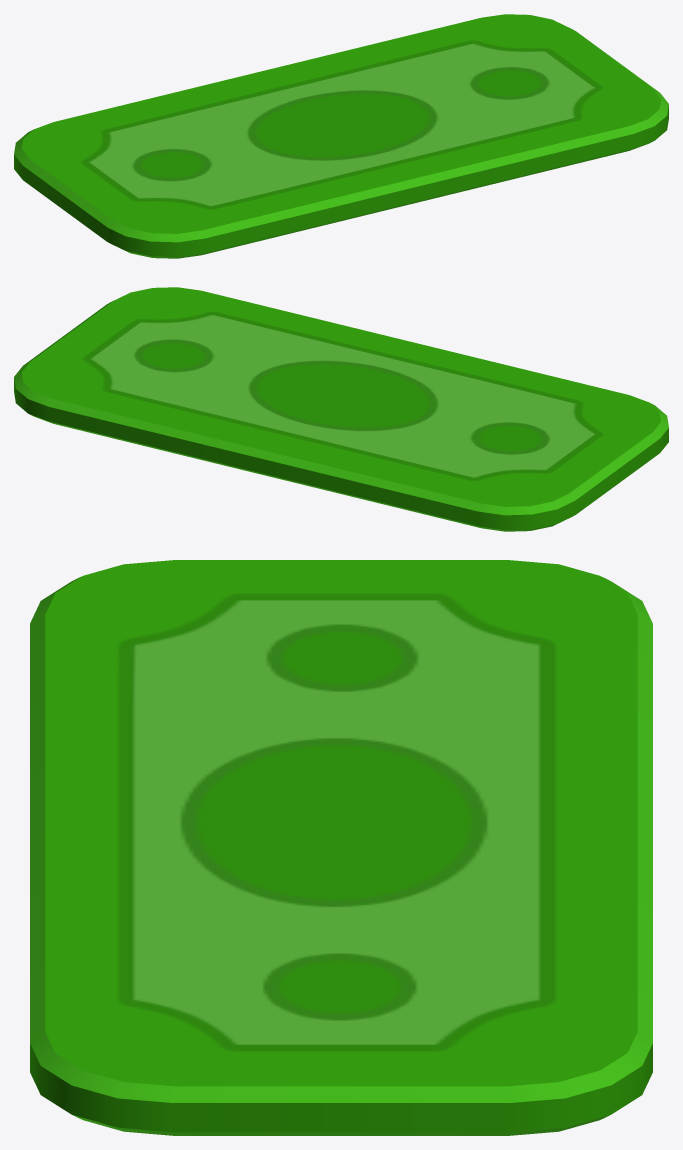
The model's file is money_4.fbx.
The picture shows the model from 3 angles, top to bottom: view 1: azimuth 30°, elevation 25°; view 2: azimuth 150°, elevation 25°; view 3: azimuth 270°, elevation 25°; orthographic projection. The views are drawn at different scales.
Parts seen in each view (by area): view 1: money_4; view 2: money_4; view 3: money_4.
Part boxes in pixels (box(x1,y1,x2,y2)): money_4: box(14, 14, 668, 258); money_4: box(14, 287, 668, 531); money_4: box(30, 560, 652, 1135).
Bounding box in the file's own units: 94.21 × 4.04 × 46.02.
